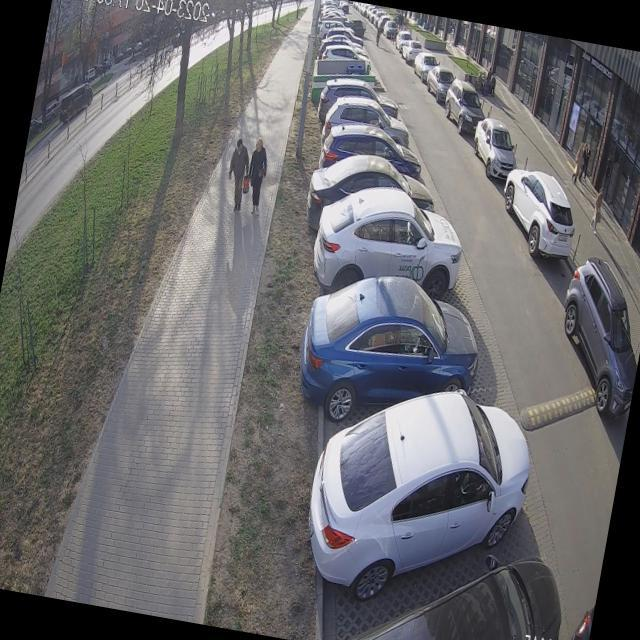person: (241, 137, 272, 216), (222, 137, 253, 211)
